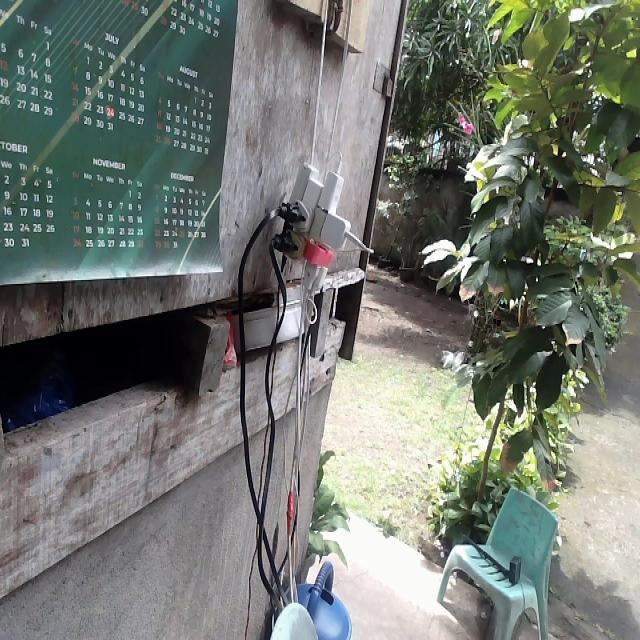-: (266, 156, 356, 297)
